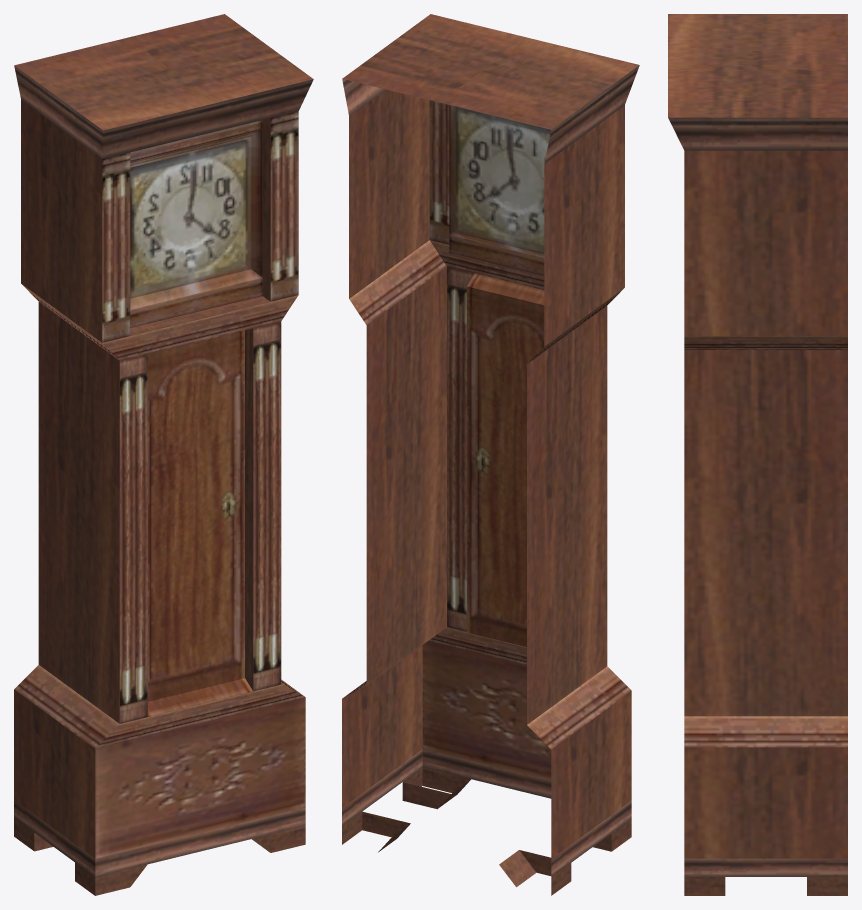
Rendered from grandfather.fbx.
3 views of the same model, side by side, from view 1: azimuth 30°, elevation 25°; view 2: azimuth 150°, elevation 25°; view 3: azimuth 270°, elevation 25° (orthographic).
Parts seen in each view (by area): view 1: mesh_0; view 2: mesh_0; view 3: mesh_0.
Part boxes in pixels (x1,y1,x2,y2): mesh_0: [14, 14, 313, 895]; mesh_0: [342, 14, 639, 895]; mesh_0: [668, 14, 847, 895].
Bounding box in the file's own units: 60 × 210 × 44.
Materials: 1 (1 with a texture image).
